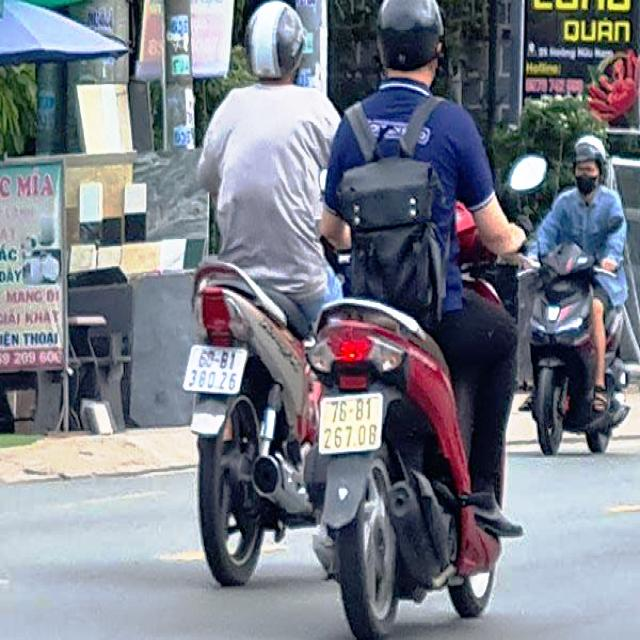license_plate: (319, 395, 383, 455), (186, 348, 250, 393)
